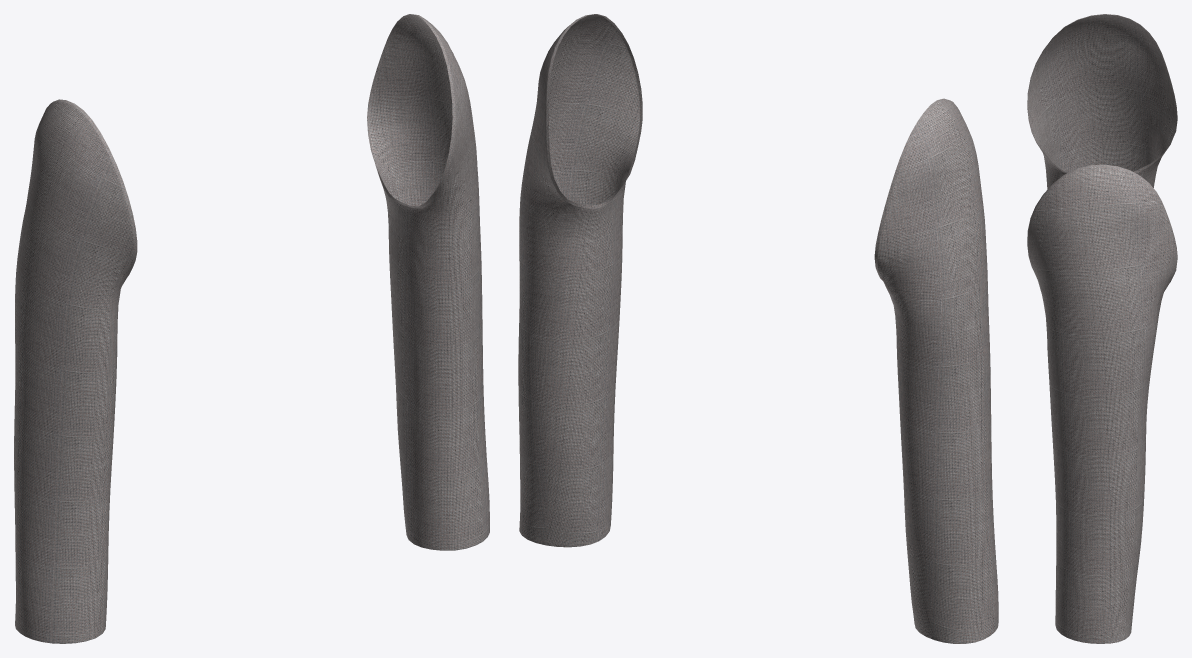
Rendered from Lightly_padded.glb.
3 views of the same model, side by side, from view 1: azimuth 30°, elevation 25°; view 2: azimuth 150°, elevation 25°; view 3: azimuth 270°, elevation 25° (orthographic). The views are drawn at different scales.
Visible parts, largest first — view 1: Lightly_padded; view 2: Lightly_padded; view 3: Lightly_padded.
Part boxes in pixels (x1=…): Lightly_padded: x1=14, y1=14, x2=489, y2=643; Lightly_padded: x1=518, y1=14, x2=998, y2=643; Lightly_padded: x1=1027, y1=14, x2=1177, y2=643.
Bounding box in the file's own units: 0.0771 × 0.0822 × 0.0246.
Materials: 1 (1 with a texture image).
